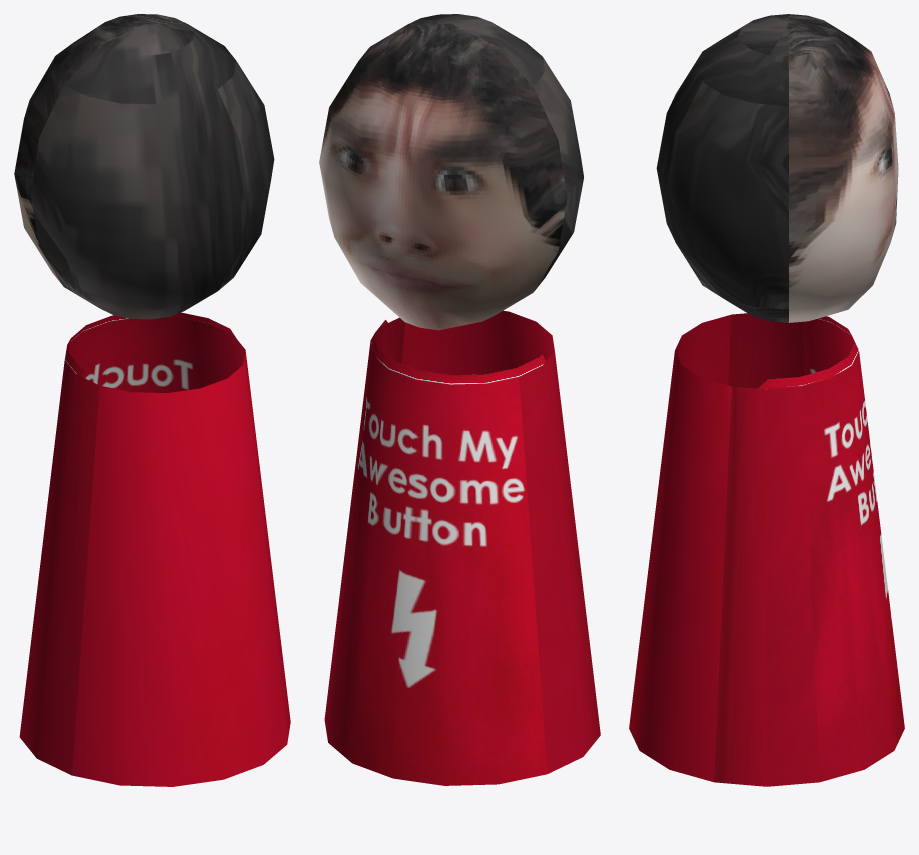
File: antonio_mii.fbx
3 views of the same model, side by side, from view 1: azimuth 30°, elevation 25°; view 2: azimuth 150°, elevation 25°; view 3: azimuth 270°, elevation 25° (orthographic).
Visible parts, largest first — view 1: mii.002; view 2: mii.002; view 3: mii.002.
Boxes of the visible parts, x1,y1,x2,y2 form: mii.002: (14,14,290,786); mii.002: (319,14,600,785); mii.002: (629,14,904,786).
Bounding box in the file's own units: 50 × 160 × 50.
Materials: 1 (1 with a texture image).
